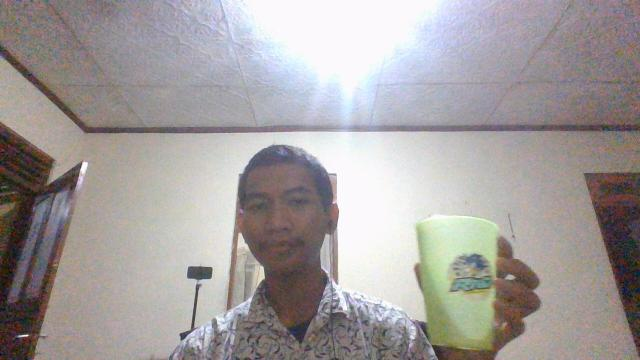botol-hijau: (413, 213, 502, 351)
